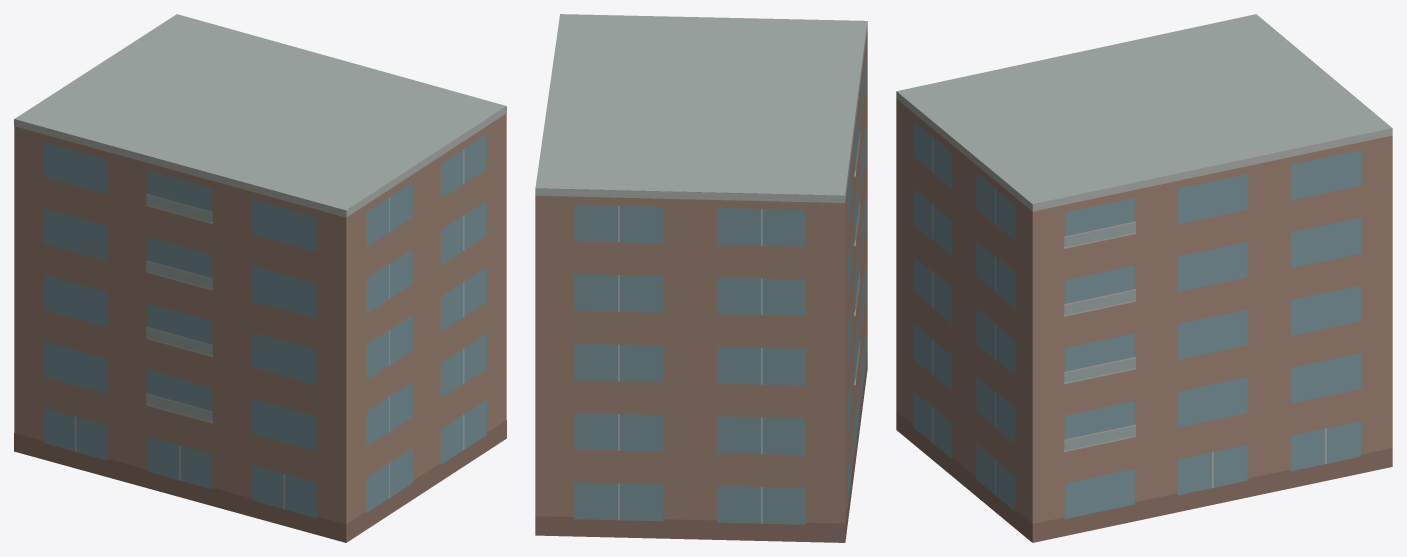
File: survey-upis-32915096.glb
3 views of the same model, side by side, from view 1: azimuth 30°, elevation 25°; view 2: azimuth 150°, elevation 25°; view 3: azimuth 270°, elevation 25° (orthographic). The views are drawn at different scales.
Visible parts, largest first — view 1: survey-upis-32915096.tmp; view 2: survey-upis-32915096.tmp; view 3: survey-upis-32915096.tmp.
Part boxes in pixels (left/top/right/bottom): survey-upis-32915096.tmp: left=14, top=14, right=506, bottom=542; survey-upis-32915096.tmp: left=535, top=14, right=867, bottom=542; survey-upis-32915096.tmp: left=896, top=14, right=1392, bottom=542.
Size of the model in its own units: 13.6 by 11.28 by 14.99.
